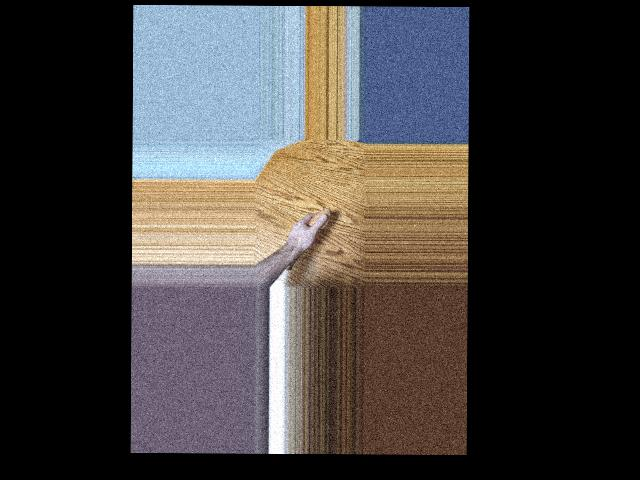sweet_potato: (281, 207, 331, 273)
